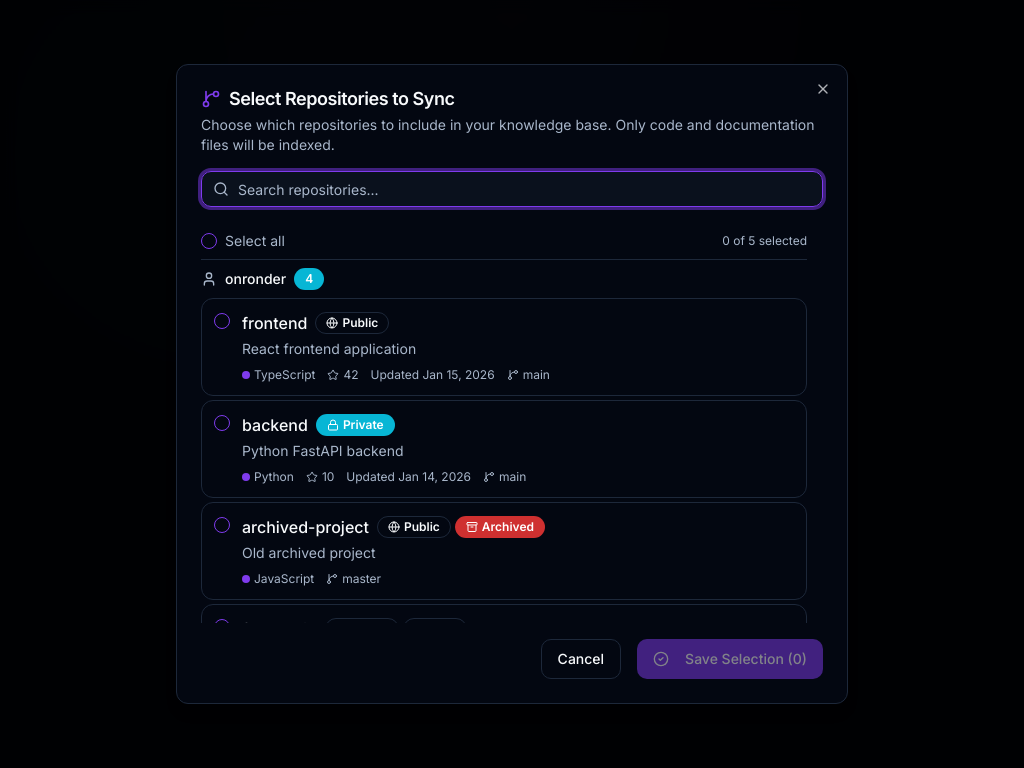
Test: GitHubRepoSelector › allows selecting all repos
The width and height of the screenshot is (1024, 768).
Expected: the text "frontend" is shown, [242,311,308,335]
// Click select all
Click the button "Select all" at (243, 241), box [201,231,285,251]
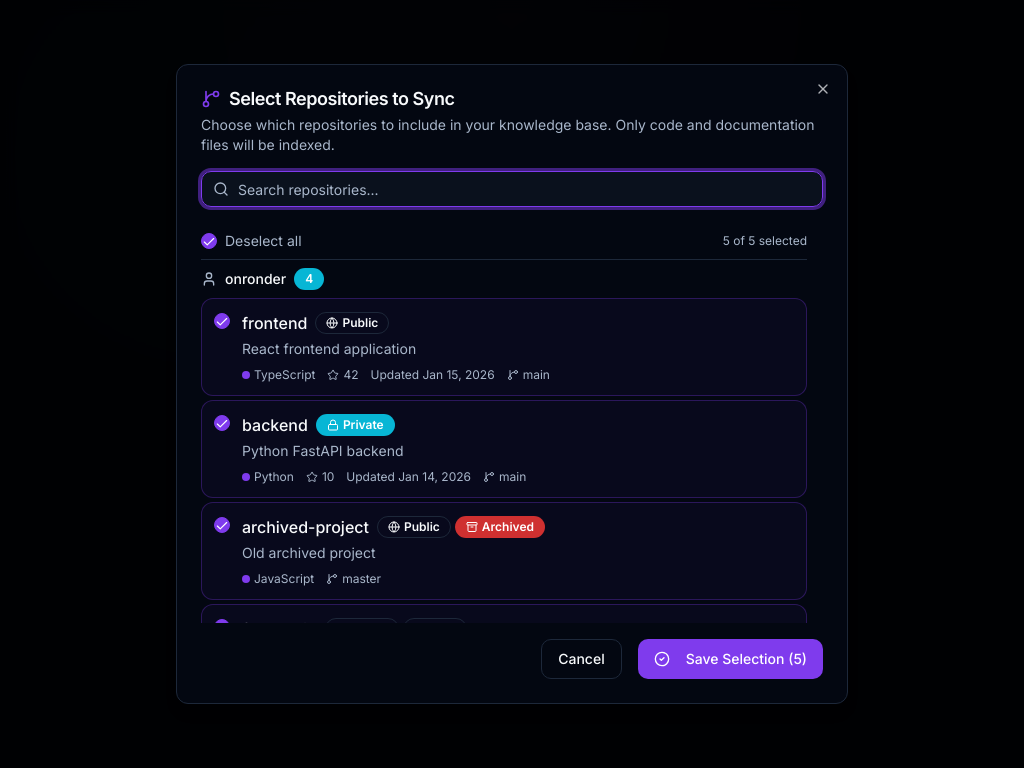
Expected: the text "5 of 5 selected" is shown, [723,233,807,249]
Expected: the text "Deselect all" is shown, [225,231,302,251]
